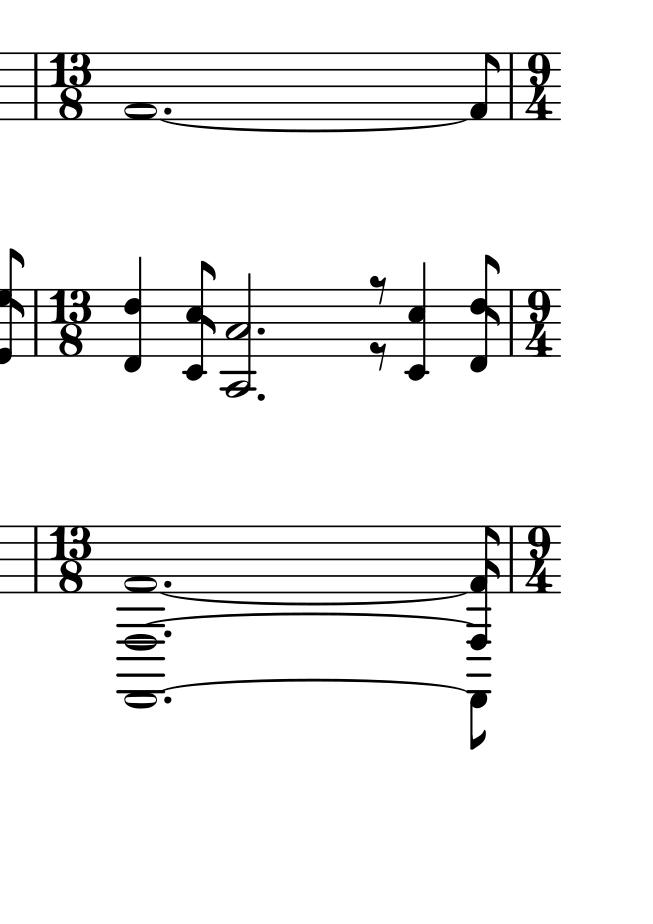1: (48, 288, 71, 323), (50, 524, 71, 561), (50, 51, 69, 86)
1_1: (124, 524, 159, 596), (123, 50, 157, 123)
2_-4_3: (223, 272, 255, 399)
3: (69, 51, 96, 86), (69, 523, 95, 559), (70, 285, 94, 323)
4: (522, 559, 557, 592), (522, 323, 555, 358), (522, 87, 554, 118)
4_-1_6: (122, 257, 145, 373)
4_-2_5: (406, 263, 431, 382)
8: (53, 86, 88, 121), (53, 323, 86, 357), (58, 560, 85, 593)
8_-1_6: (470, 254, 502, 372)
8_-2_5: (183, 261, 218, 381)
8_1: (469, 53, 503, 121)
9: (524, 49, 555, 86), (525, 523, 555, 560), (524, 288, 552, 323)
Rests8: (368, 338, 392, 374), (368, 270, 389, 309)
Single_barline: (27, 52, 45, 120), (502, 52, 520, 119), (27, 525, 44, 594), (27, 290, 44, 356), (503, 526, 519, 593), (504, 289, 517, 356)
Slur: (149, 611, 473, 626), (156, 677, 471, 692), (160, 593, 465, 606)
TimeSig: (50, 51, 95, 121), (51, 291, 95, 357), (51, 526, 92, 596), (520, 290, 558, 357), (522, 53, 556, 117), (523, 527, 555, 593)
dot: (254, 323, 267, 340), (162, 105, 174, 118), (254, 390, 266, 403), (162, 627, 173, 638), (162, 694, 171, 706), (163, 577, 172, 588)
